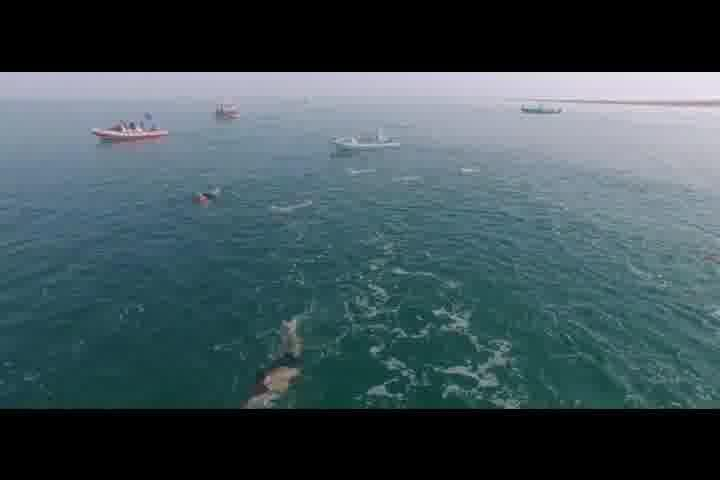human: (238, 318, 304, 411)
